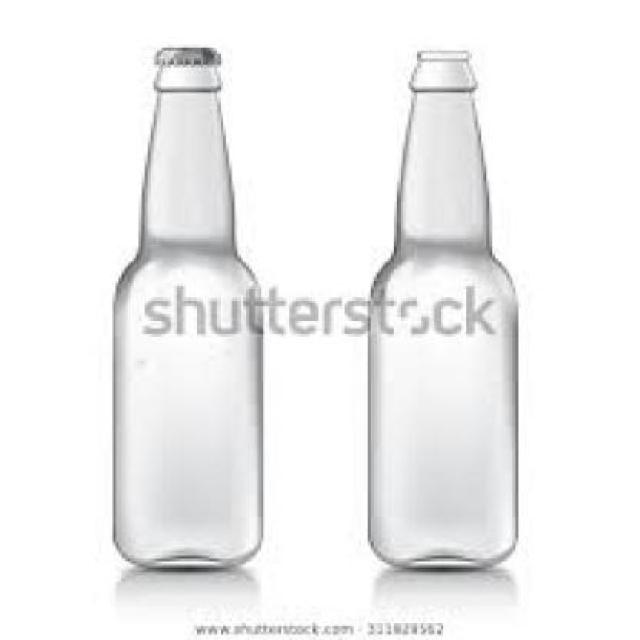kaca: (364, 51, 516, 569), (110, 62, 262, 564)
